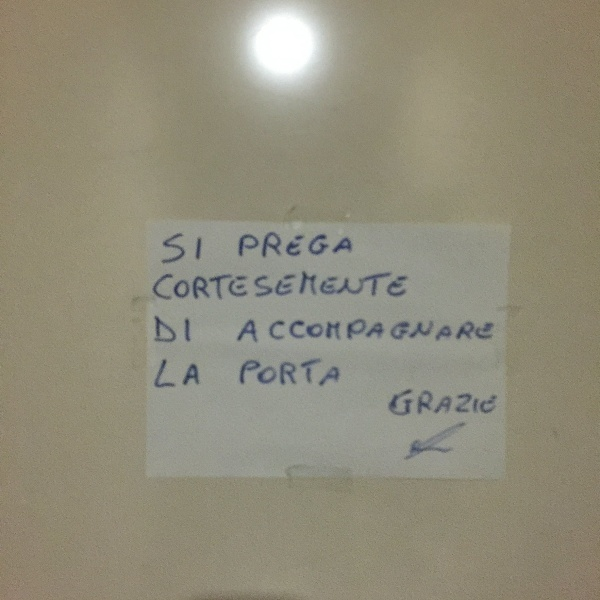text: (401, 376, 416, 429), (417, 376, 432, 429), (433, 376, 448, 429), (449, 376, 464, 429), (465, 376, 480, 429), (481, 376, 496, 429), (386, 376, 400, 429), (241, 306, 256, 354), (161, 308, 176, 355), (161, 351, 176, 398), (241, 352, 256, 398), (257, 352, 272, 398), (273, 352, 288, 398), (289, 352, 304, 398), (305, 352, 320, 398), (321, 352, 336, 398), (401, 306, 416, 351), (417, 306, 432, 351), (433, 306, 448, 351), (449, 306, 464, 351), (465, 306, 480, 351), (481, 306, 496, 351), (161, 226, 176, 269), (241, 223, 256, 266), (257, 223, 272, 266), (273, 223, 288, 266), (289, 223, 304, 266), (305, 223, 320, 266), (321, 223, 336, 266), (337, 223, 352, 266), (161, 265, 176, 308), (177, 265, 192, 308), (193, 265, 208, 308), (209, 265, 224, 308), (225, 265, 240, 308), (241, 265, 256, 308), (257, 265, 272, 308), (273, 265, 288, 308), (289, 265, 304, 308), (305, 265, 320, 308), (321, 265, 336, 308), (337, 265, 352, 308), (353, 265, 368, 308), (369, 265, 384, 308), (385, 265, 400, 308), (193, 228, 208, 264), (273, 314, 288, 350), (289, 314, 304, 350), (305, 314, 320, 350), (321, 314, 336, 350), (337, 314, 352, 350), (353, 314, 368, 350), (369, 314, 384, 350), (388, 306, 400, 351), (181, 352, 192, 395), (181, 308, 192, 350), (177, 226, 187, 269), (193, 352, 203, 395), (151, 308, 160, 355), (151, 265, 160, 308), (401, 265, 410, 308), (152, 351, 160, 398), (337, 352, 343, 398), (266, 314, 272, 350), (235, 223, 240, 266), (497, 376, 501, 429), (236, 306, 240, 354), (257, 306, 261, 354), (177, 308, 181, 355), (236, 352, 240, 398), (353, 223, 357, 266), (177, 351, 178, 398), (497, 306, 498, 351), (159, 226, 160, 269), (385, 314, 386, 350)
